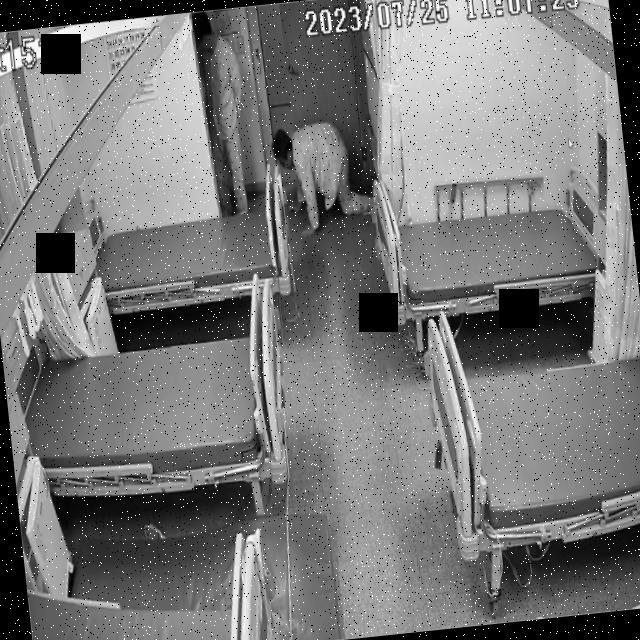bed: (420, 290, 640, 557), (16, 322, 293, 502), (370, 182, 616, 326), (93, 196, 291, 313)
fall: (274, 120, 382, 230)
patient: (188, 8, 248, 216), (274, 124, 384, 236)
stand: (189, 8, 248, 215)
